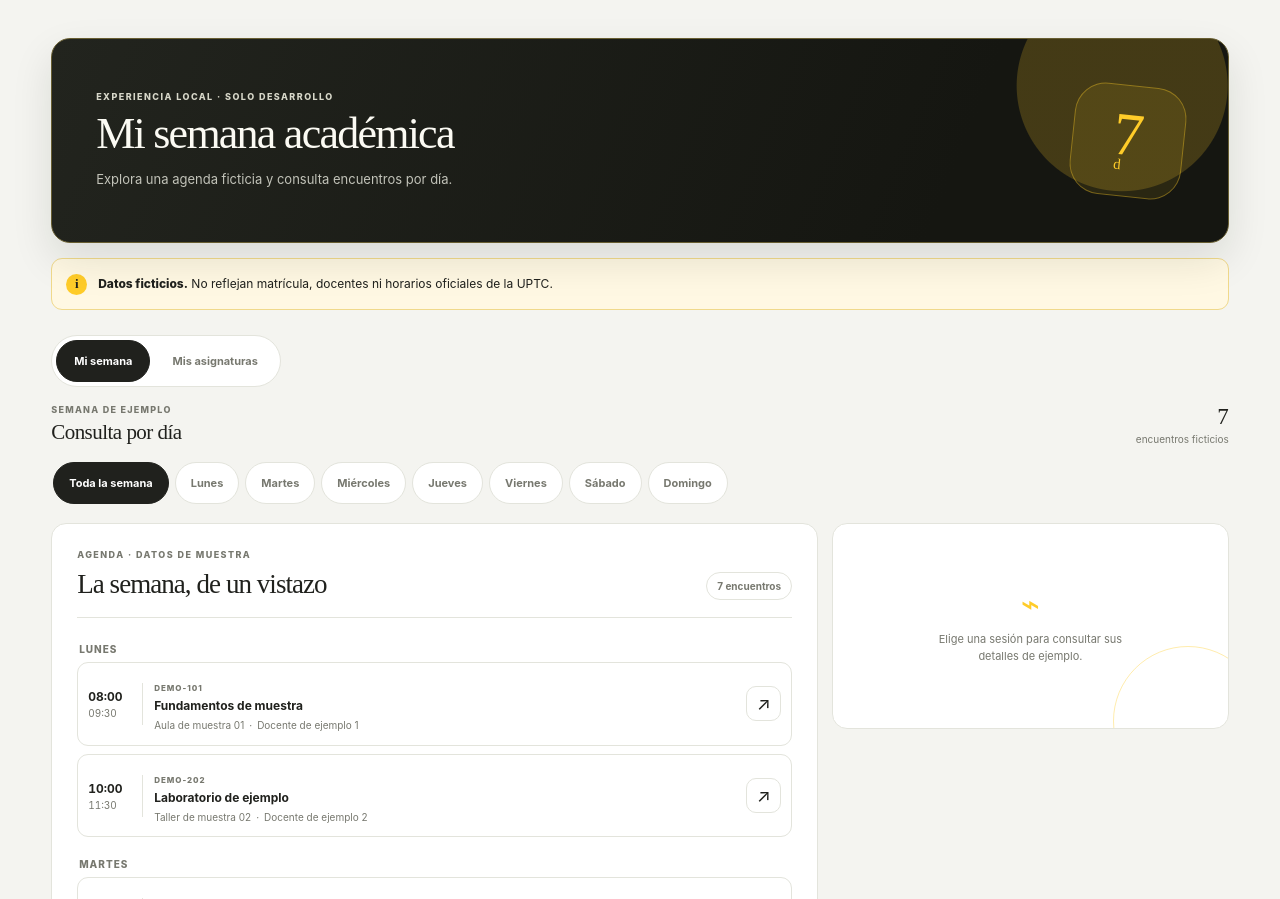
Scenario: MyAcademicWeekDemo › opens an accessible detail panel for the selected sample session
The image size is (1280, 899).
Step 1. Click the button named "ver detalle de laboratorio de ejemplo" → (764, 796), box [746, 778, 781, 813]
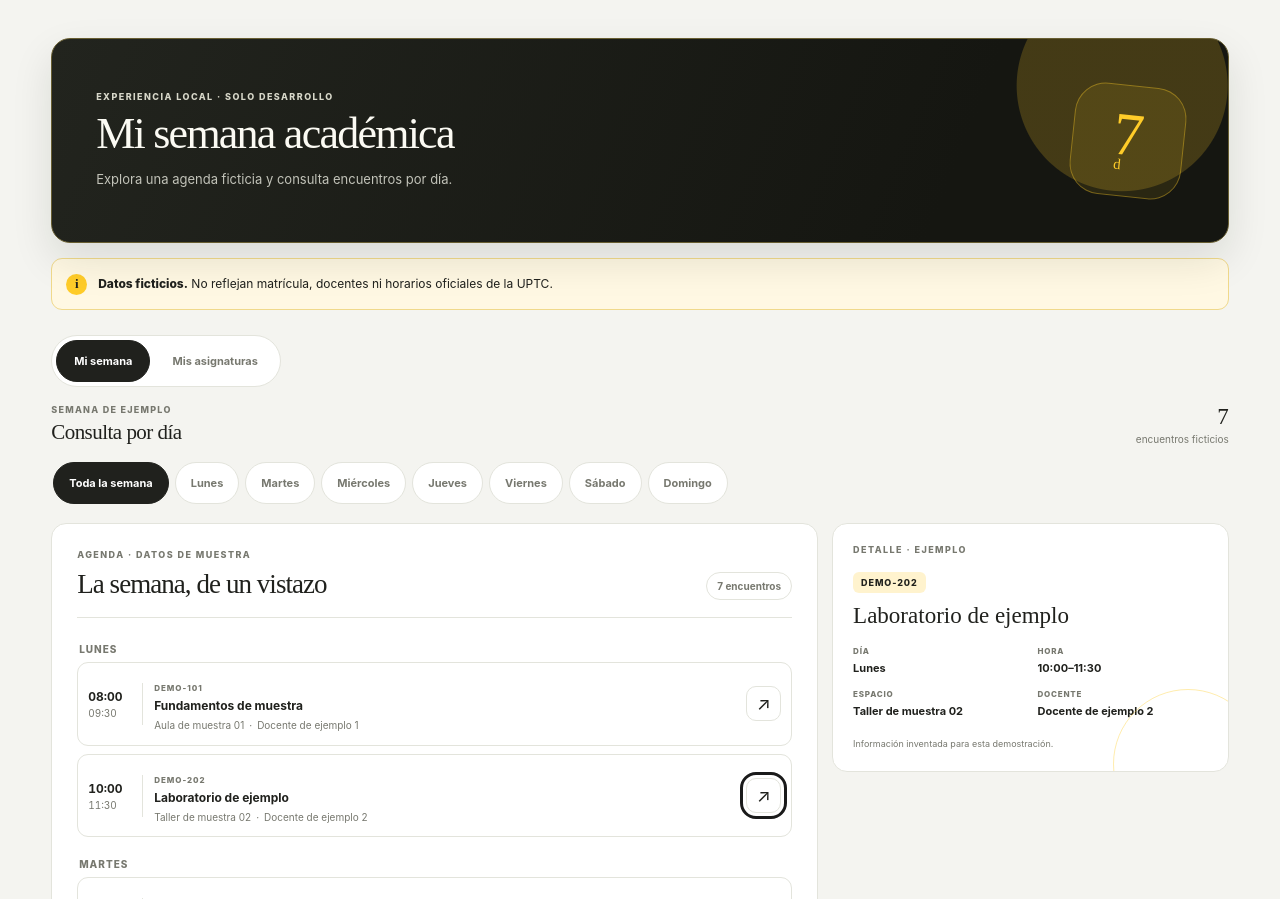
Expected: the text "DEMO-202" below "DETALLE · EJEMPLO" is shown, [861, 577, 918, 588]
Expected: the text "Taller de muestra 02" is shown, [853, 704, 963, 718]
Expected: the text "Docente de ejemplo 2" is shown, [1038, 704, 1154, 718]
